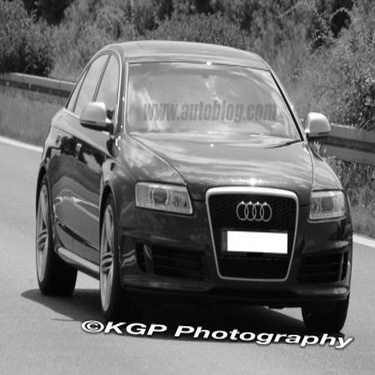car: (11, 31, 363, 344)
